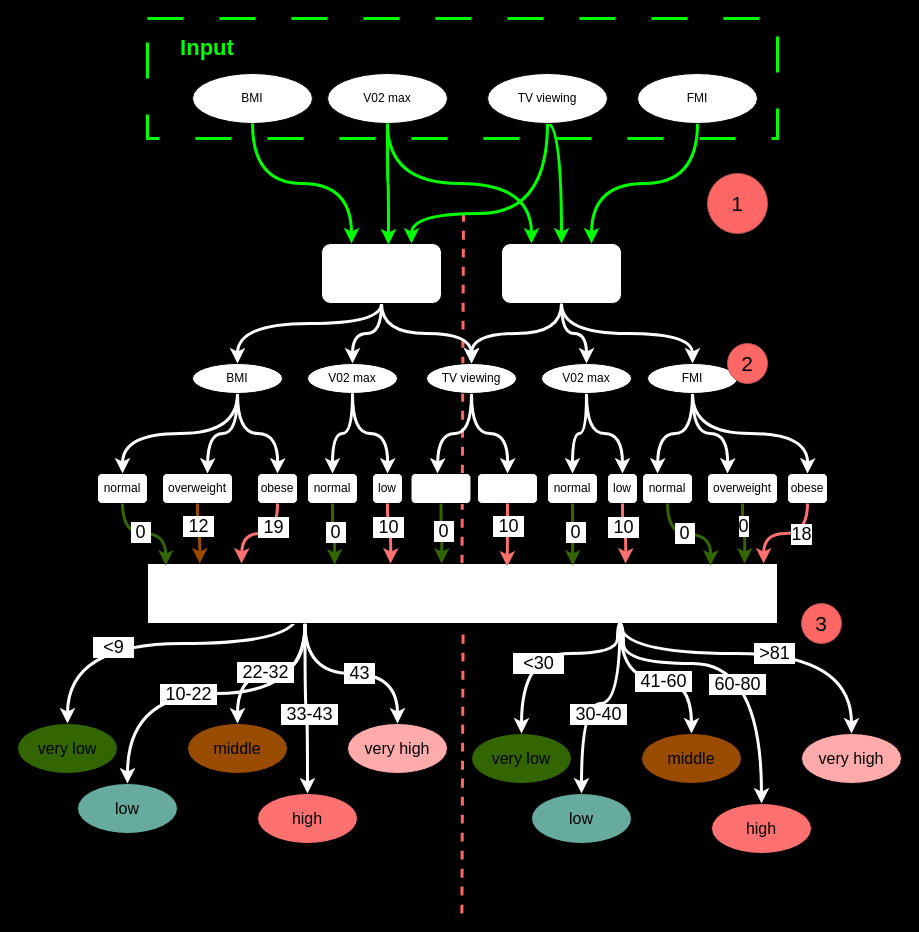
This 919x932 diagram has some shape labels left out. Each missing label, with the centre of its shape:
<1 h/day: the point at 440,488
Female: the point at 561,273
Male: the point at 381,273
Risk Score: the point at 462,593
≥1 h/day: the point at 507,488
